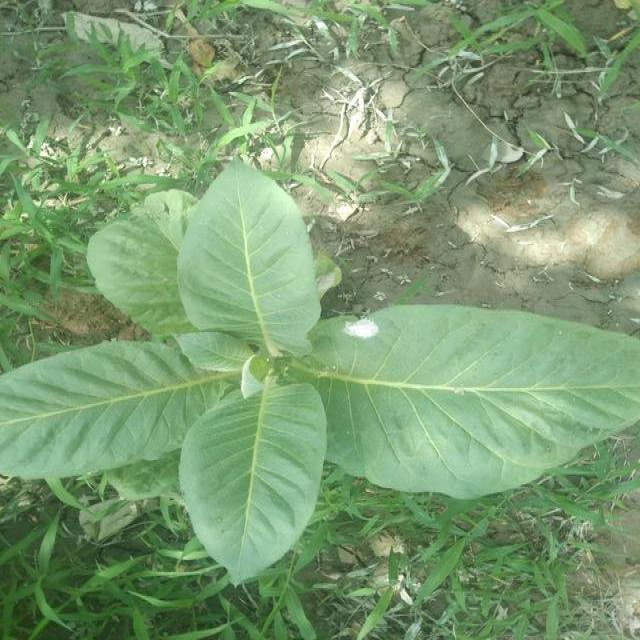crop: (0, 164, 640, 583)
